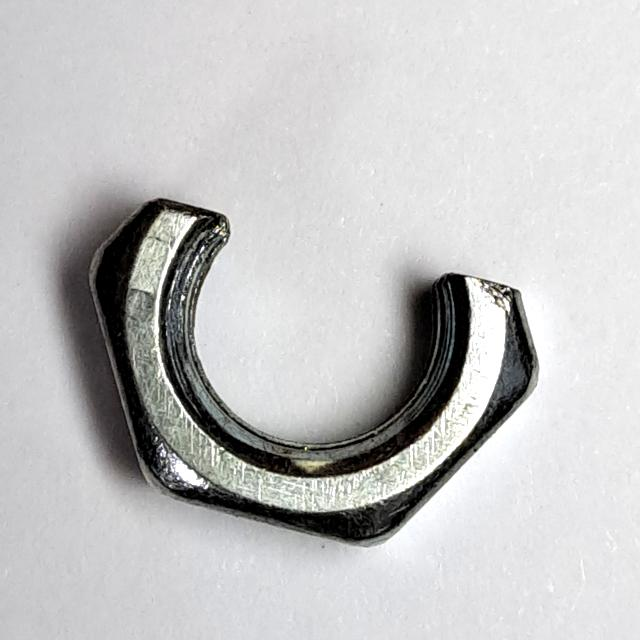Fracture: (77, 183, 549, 559)
